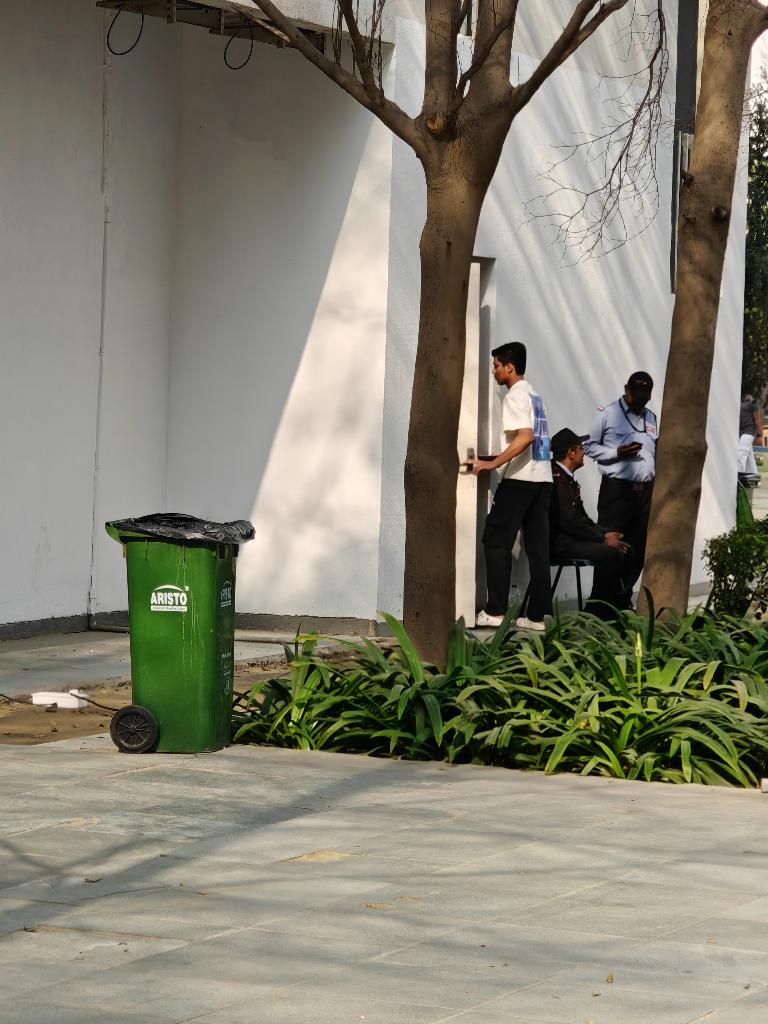dustbin: (81, 493, 273, 780)
